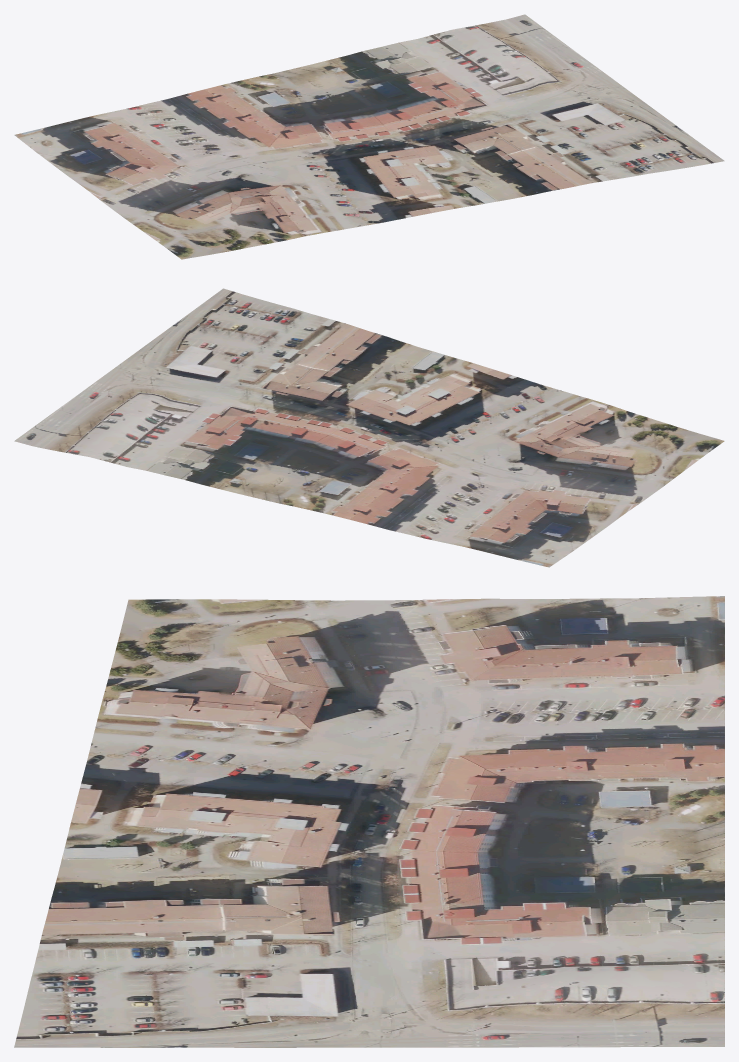
The model's file is CM_Terrain_24487182_6818770.fbx.
3 renders of one model, top to bottom at view 1: azimuth 30°, elevation 25°; view 2: azimuth 150°, elevation 25°; view 3: azimuth 270°, elevation 25°, orthographic. The views are drawn at different scales.
Visible parts, largest first — view 1: CM_Terrain_24487182_6818770_LOD0; view 2: CM_Terrain_24487182_6818770_LOD0; view 3: CM_Terrain_24487182_6818770_LOD0.
Boxes of the visible parts, x1=… form: CM_Terrain_24487182_6818770_LOD0: x1=14, y1=14, x2=724, y2=259; CM_Terrain_24487182_6818770_LOD0: x1=14, y1=288, x2=724, y2=567; CM_Terrain_24487182_6818770_LOD0: x1=14, y1=596, x2=724, y2=1047.
Size of what is drawn, in the model's own units: 205 by 2.51 by 139.
